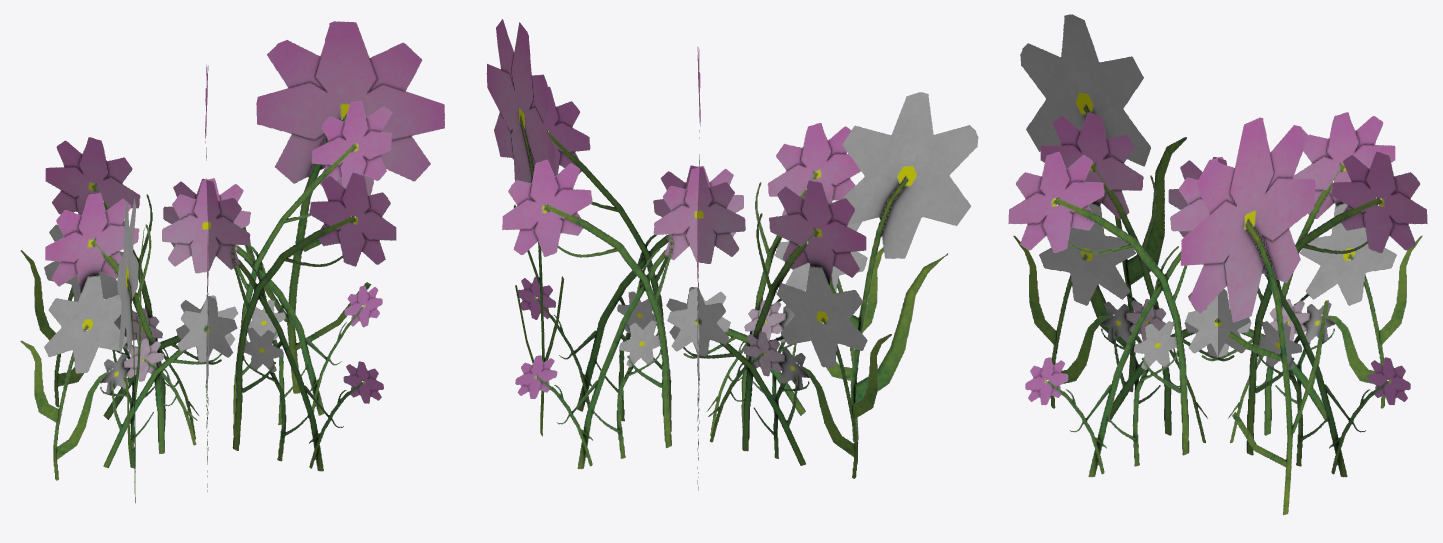
Rendered from Flowers_05.fbx.
The picture shows the model from 3 angles, left to right: view 1: azimuth 30°, elevation 25°; view 2: azimuth 150°, elevation 25°; view 3: azimuth 270°, elevation 25°; orthographic projection. The views are drawn at different scales.
Parts seen in each view (by area): view 1: Flowers_05; view 2: Flowers_05; view 3: Flowers_05.
Part boxes in pixels (left/top/right/bottom): Flowers_05: left=20, top=21, right=444, bottom=503; Flowers_05: left=486, top=19, right=978, bottom=490; Flowers_05: left=1008, top=14, right=1427, bottom=515.
Size of the model in its own units: 0.00809 by 0.0071 by 0.00641.
